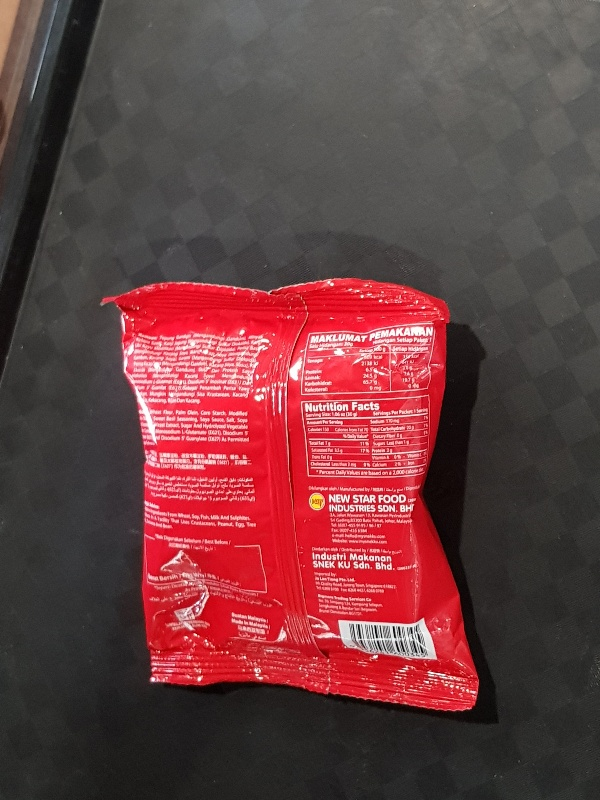ShoyueMi Spicy Flavoured Snacks: (99, 275, 480, 714)
